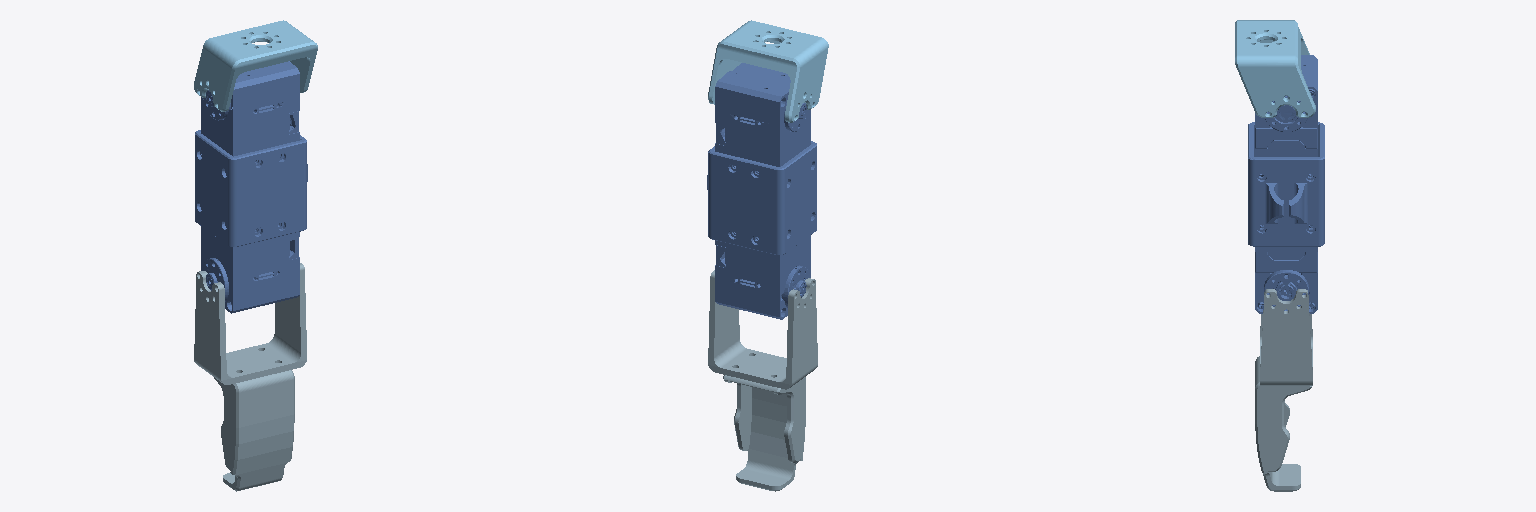
robot.urdf — left_OP3_arm:
<?xml version="1.0" ?><robot name="left_OP3_arm">  
  <link name="sho_pitch_link">    
    <visual>      
      <origin xyz="0 0 0" rpy="0 -0 0"/>      
      <geometry>        
        <mesh filename="package:///meshes/left_sho_pitch_link_visual.stl"/>        
      </geometry>      
      <material name="sho_pitch_link_material">        
        <color rgba="0.61568627450980395466 0.81176470588235294379 0.92941176470588238168 1.0"/>        
      </material>      
    </visual>    
    <collision>      
      <origin xyz="0 0 0" rpy="0 -0 0"/>      
      <geometry>        
        <mesh filename="package:///meshes/left_sho_pitch_link_collision.stl"/>        
      </geometry>      
    </collision>    
    <inertial>      
      <origin xyz="-3.0491385324852558221e-09 0.0021980515983192182999 -0.0084441034778716100168" rpy="0 0 0"/>      
      <mass value="0.005071479984796780846"/>      
      <inertia ixx="7.6348105206556983548e-07" ixy="1.1155743803417448995e-13" ixz="9.7455166033278370068e-15" iyy="1.7661180179823256502e-06" iyz="1.1100867450487402156e-07" izz="1.8650955603811175307e-06"/>      
    </inertial>    
  </link>  

  <link name="sho_roll_link">    
    <visual>      
      <origin xyz="0 0 0" rpy="0 -0 0"/>      
      <geometry>        
        <mesh filename="package:///meshes/left_sho_roll_link_visual.stl"/>        
      </geometry>      
      <material name="sho_roll_link_material">        
        <color rgba="0.41243716778099159814 0.53141040174499643012 0.72755857506443610827 1.0"/>        
      </material>      
    </visual>    
    <collision>      
      <origin xyz="0 0 0" rpy="0 -0 0"/>      
      <geometry>        
        <mesh filename="package:///meshes/left_sho_roll_link_collision.stl"/>        
      </geometry>      
    </collision>    
    <inertial>      
      <origin xyz="-0.044750001317538153078 -2.1437021871944539832e-09 -0.018766560050923718206" rpy="0 0 0"/>      
      <mass value="0.14053933881247793192"/>      
      <inertia ixx="2.5542860709012123096e-05" ixy="3.364602902993181664e-08" ixz="-2.938229701792875931e-12" iyy="0.00018283946647031754811" iyz="-7.6178887869445224429e-12" izz="0.00017786975360446812271"/>      
    </inertial>    
  </link>  

  <link name="elb_link">    
    <visual>      
      <origin xyz="0 0 0" rpy="0 -0 0"/>      
      <geometry>        
        <mesh filename="package:///meshes/left_elb_link_visual.stl"/>        
      </geometry>      
      <material name="elb_link_material">        
        <color rgba="0.632763333624367319 0.72211014553089536427 0.77571823267481221365 1.0"/>        
      </material>      
    </visual>    
    <collision>      
      <origin xyz="0 0 0" rpy="0 -0 0"/>      
      <geometry>        
        <mesh filename="package:///meshes/left_elb_link_collision.stl"/>        
      </geometry>      
    </collision>    
    <inertial>      
      <origin xyz="0.0035809919318981042052 0.051692930824585210658 0.01899999963962420782" rpy="0 0 0"/>      
      <mass value="0.011587175244532097601"/>      
      <inertia ixx="9.8008364445094173646e-06" ixy="-7.9870408555374521541e-07" ixz="2.342192964011220743e-13" iyy="2.9172843721890396072e-06" iyz="2.5739517393675510705e-14" izz="8.0566619883512671568e-06"/>      
    </inertial>    
  </link>  

  <joint name="left_elb" type="revolute">    
    <origin xyz="-0.089499999999999663158 -3.2265856653168611956e-16 5.9049987122250513494e-15" rpy="3.1415926535897367167 2.2793048768987009608e-14 -1.5707963267948858999"/>    
    <parent link="sho_roll_link"/>    
    <child link="elb_link"/>    
    <axis xyz="0 0 1"/>    
    <limit effort="1" velocity="20" lower="-1.570796326794896558" upper="1.570796326794896558"/>    
    <joint_properties friction="0.0"/>    
  </joint>  

  <joint name="left_sho_roll" type="revolute">    
    <origin xyz="-0.018999999999999999528 0.0089999999999999646255 -0.027499999999999986261" rpy="-6.3254956828146051492e-14 -1.5707963267948947816 0"/>    
    <parent link="sho_pitch_link"/>    
    <child link="sho_roll_link"/>    
    <axis xyz="0 0 1"/>    
    <limit effort="1" velocity="20" lower="-1.570796326794896558" upper="1.570796326794896558"/>    
    <joint_properties friction="0.0"/>    
  </joint>  


</robot>

--- Render facts (derived) ---
Views: 3 orthographic renders of the robot side by side, from view 1: azimuth 30°, elevation 25°; view 2: azimuth 150°, elevation 25°; view 3: azimuth 270°, elevation 25°.
Model left_OP3_arm with 3 links and 2 joints (2 revolute), rooted at sho_pitch_link, posed all joints at 0.
Links seen in each view (by area): view 1: sho_roll_link, elb_link, sho_pitch_link; view 2: sho_roll_link, elb_link, sho_pitch_link; view 3: sho_roll_link, elb_link, sho_pitch_link.
Boxes of the visible links, x1,y1,x2,y2 form: sho_roll_link: (195,61,307,313); elb_link: (194,263,306,491); sho_pitch_link: (194,20,317,111); sho_roll_link: (707,63,816,319); elb_link: (708,270,817,491); sho_pitch_link: (708,20,828,122); sho_roll_link: (1248,55,1324,313); elb_link: (1255,289,1312,491); sho_pitch_link: (1235,20,1315,117).
Size in the robot's own frame: 0.0499 by 0.0402 by 0.219 metres.
3 mesh visuals loaded from 3 distinct referenced files (3 binary STL).